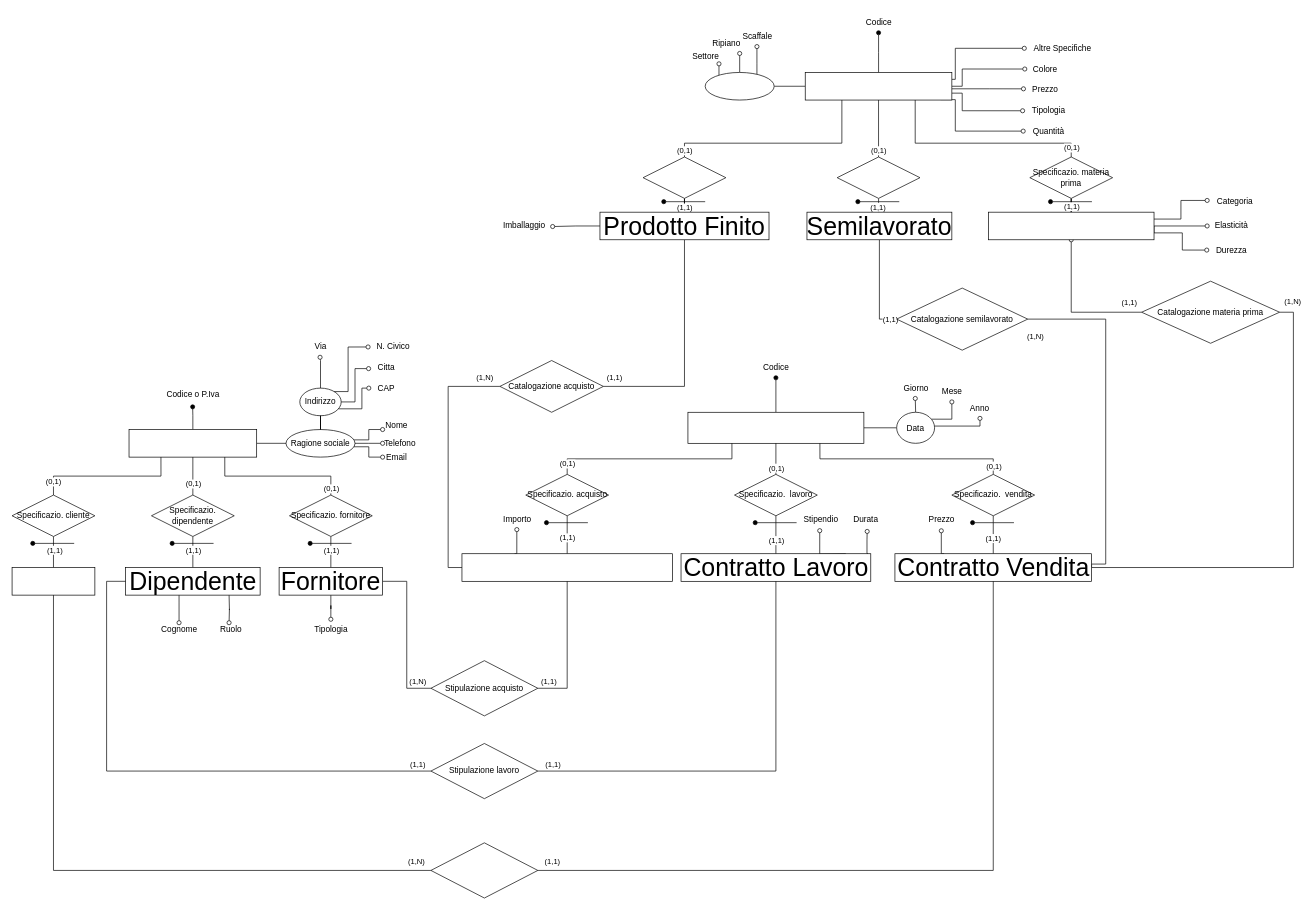
Some shapes in this 1312 by 910 pixel diagram are drawn without their labels. Each missing label, with the centre of its shape:
Cliente: (x=53, y=581)
CONTRATTO: (x=775, y=427)
Contratto Acquisto: (x=566, y=567)
Localizzazione: (x=739, y=86)
Materia Prima: (x=1071, y=225)
MATERIALE: (x=878, y=86)
PERSONA: (x=192, y=443)
Specificazio. prodotto finito: (x=684, y=177)
Specificazio. semilavorato: (x=878, y=177)
Stipulazione vendita: (x=484, y=870)
